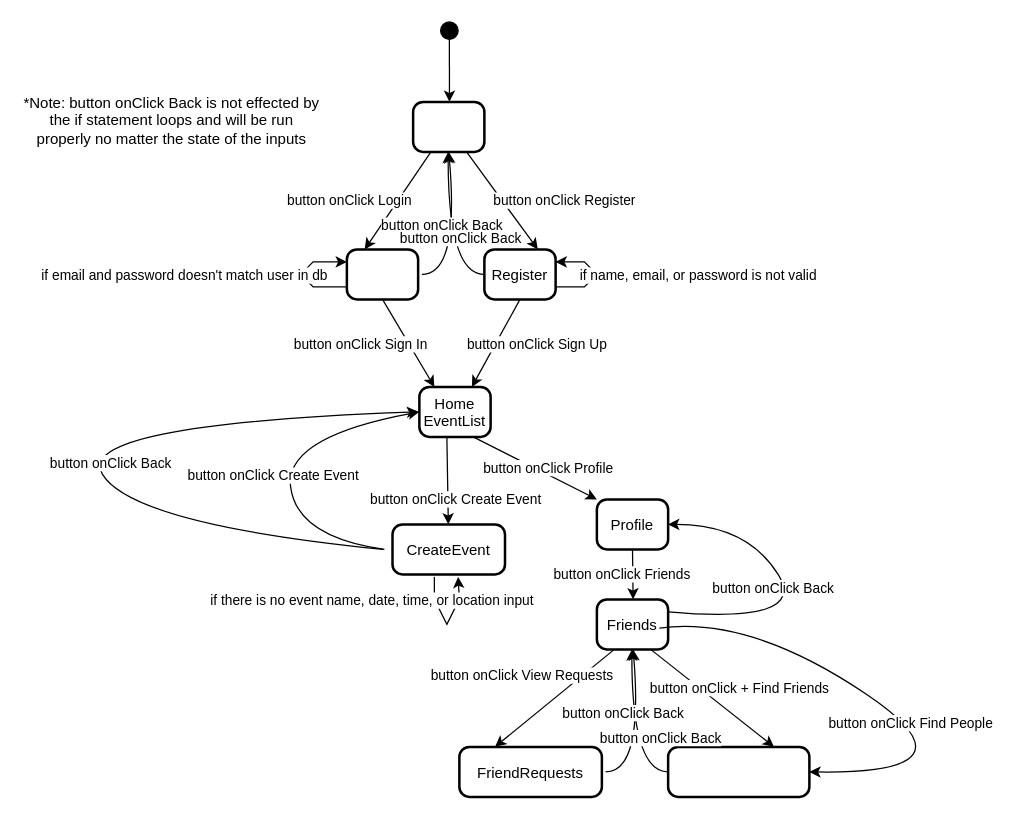
Some shapes in this 1014 by 820 pixel diagram are drawn without their labels. Here are the shapes that lost their labels. From the top down, the box of each, then its label:
(411, 100, 485, 152): Choice
(345, 248, 419, 300): Login
(666, 745, 810, 798): FriendSearch
